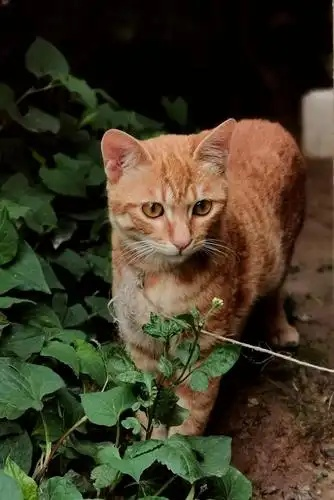橘猫: (102, 120, 303, 352)
